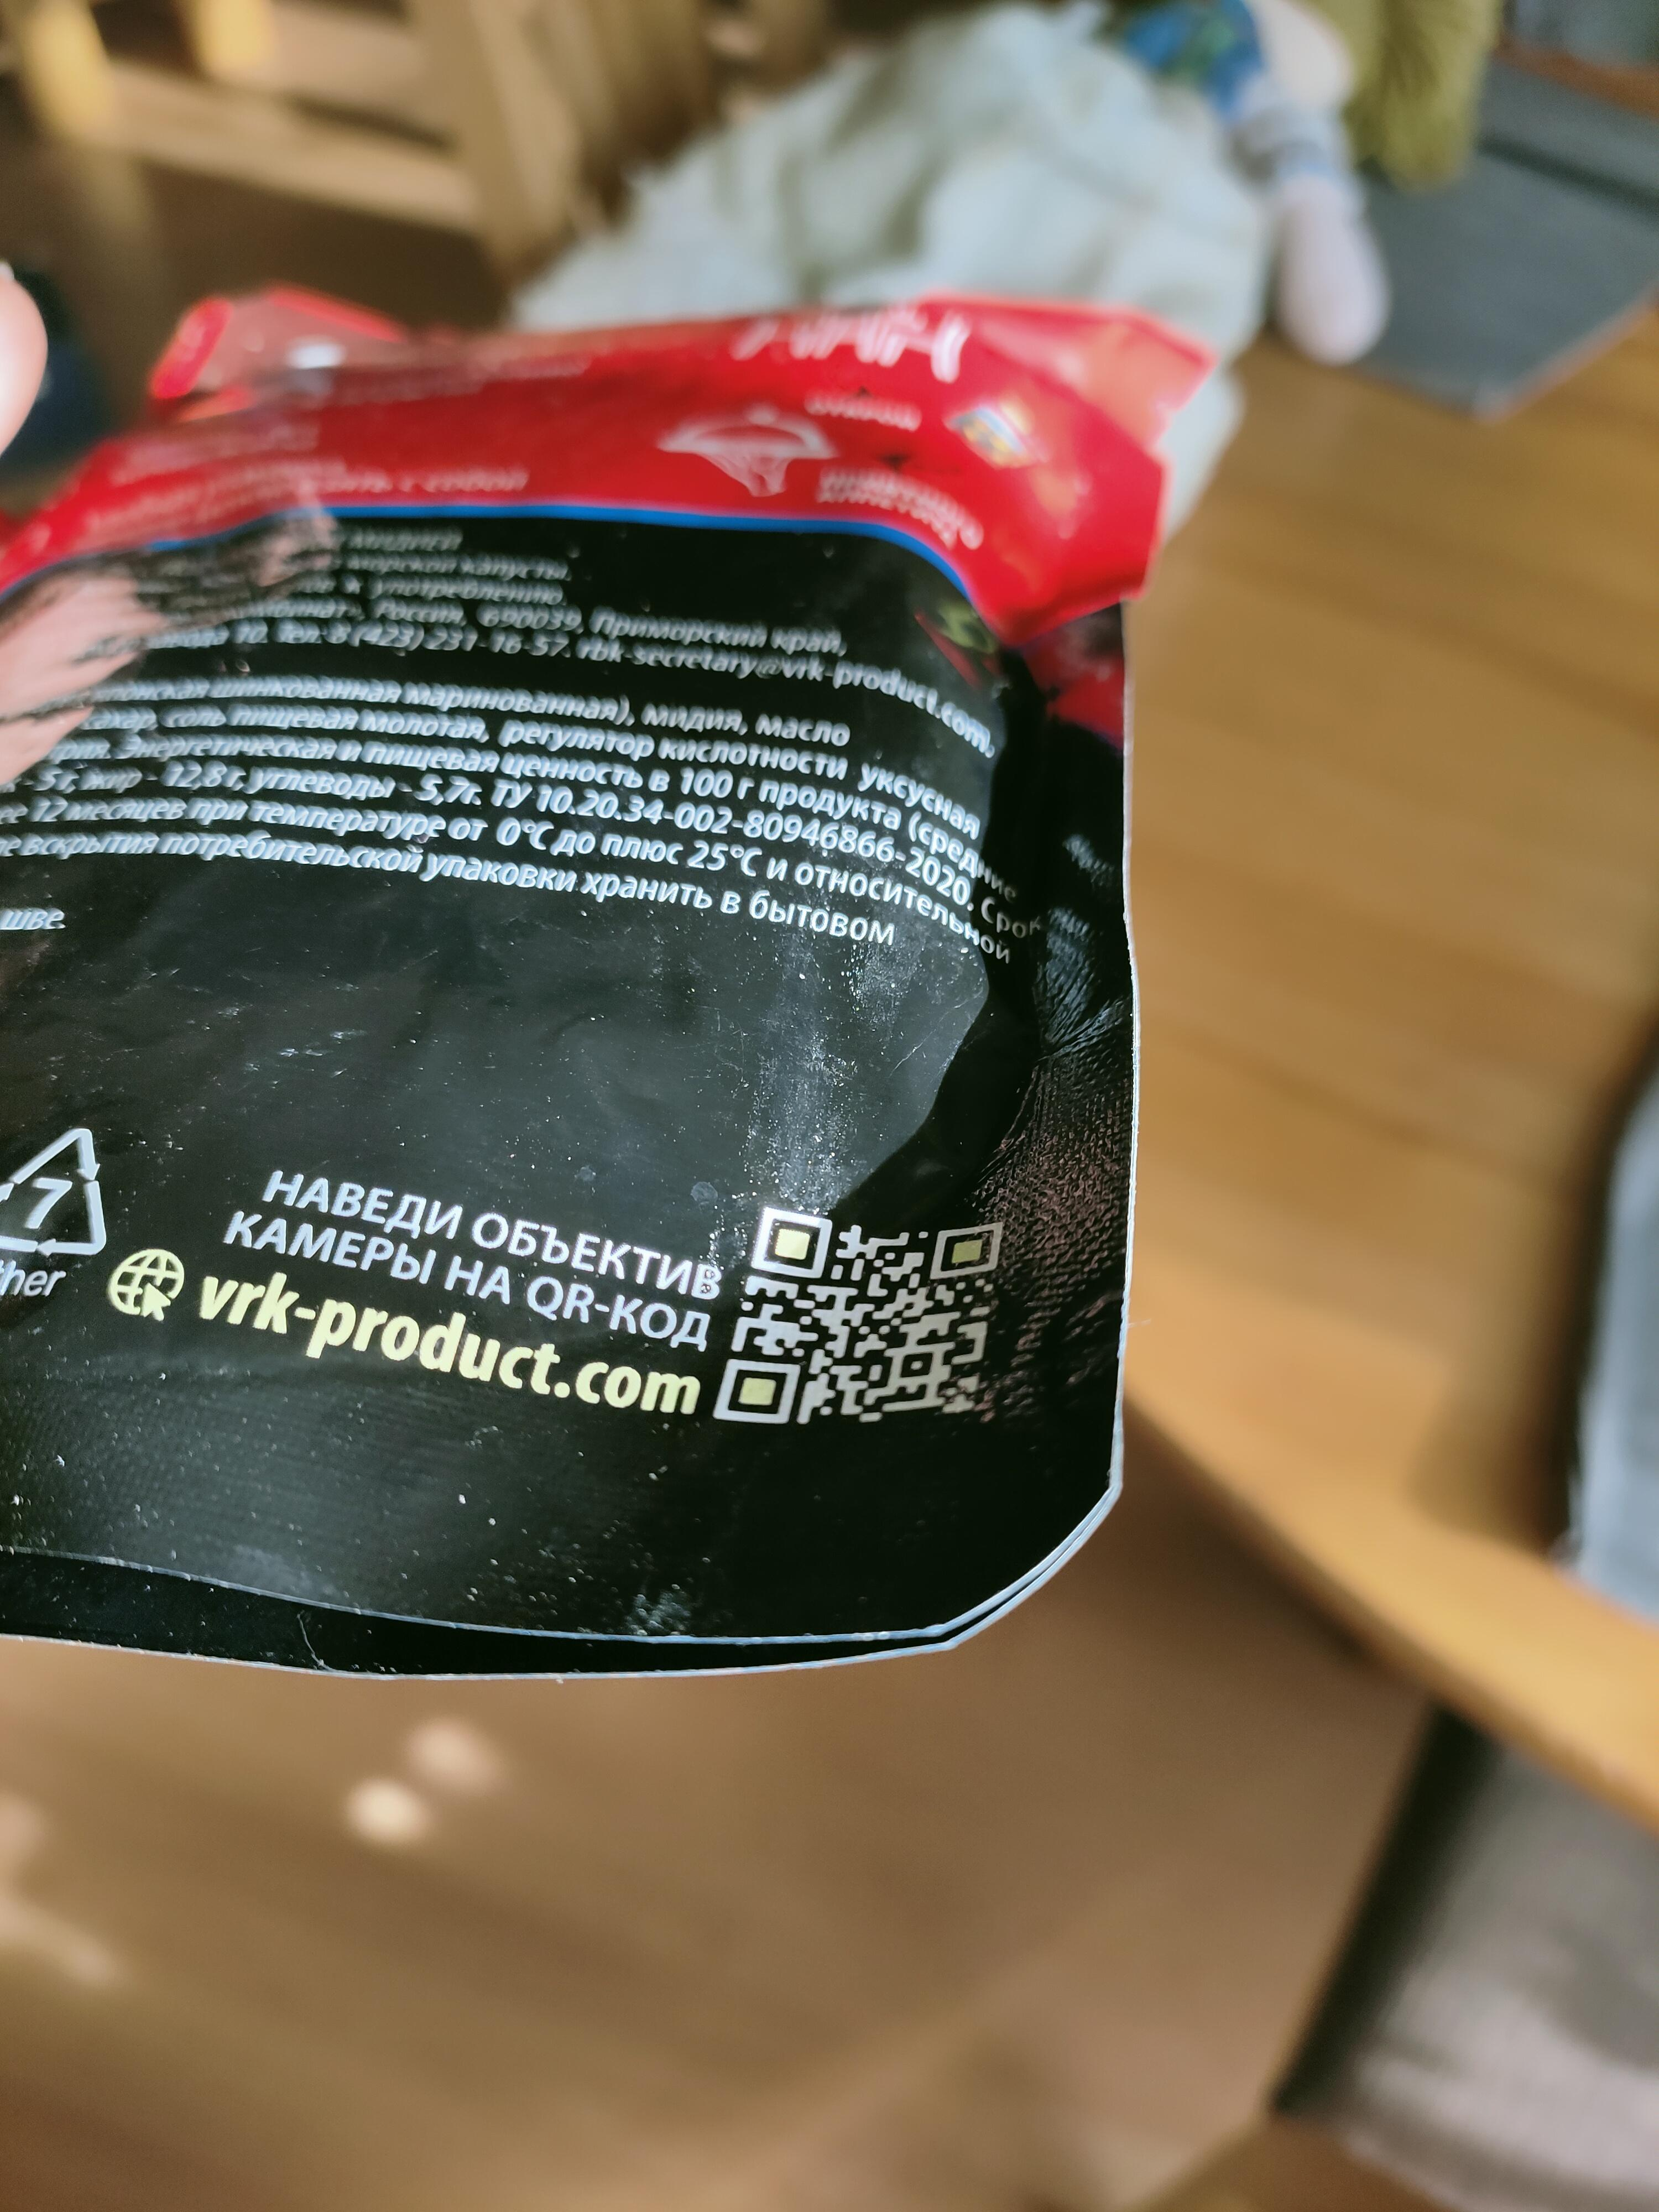qrcode: (714, 1205, 1006, 1426)
